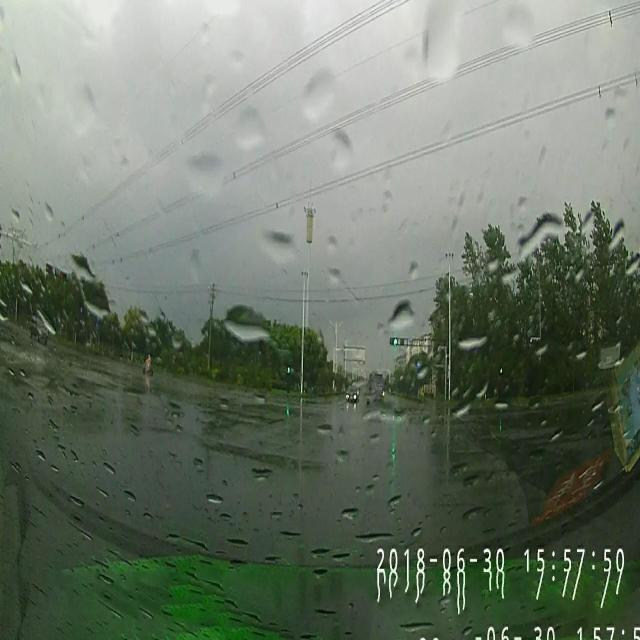car: (27, 314, 47, 348), (346, 384, 358, 406)
